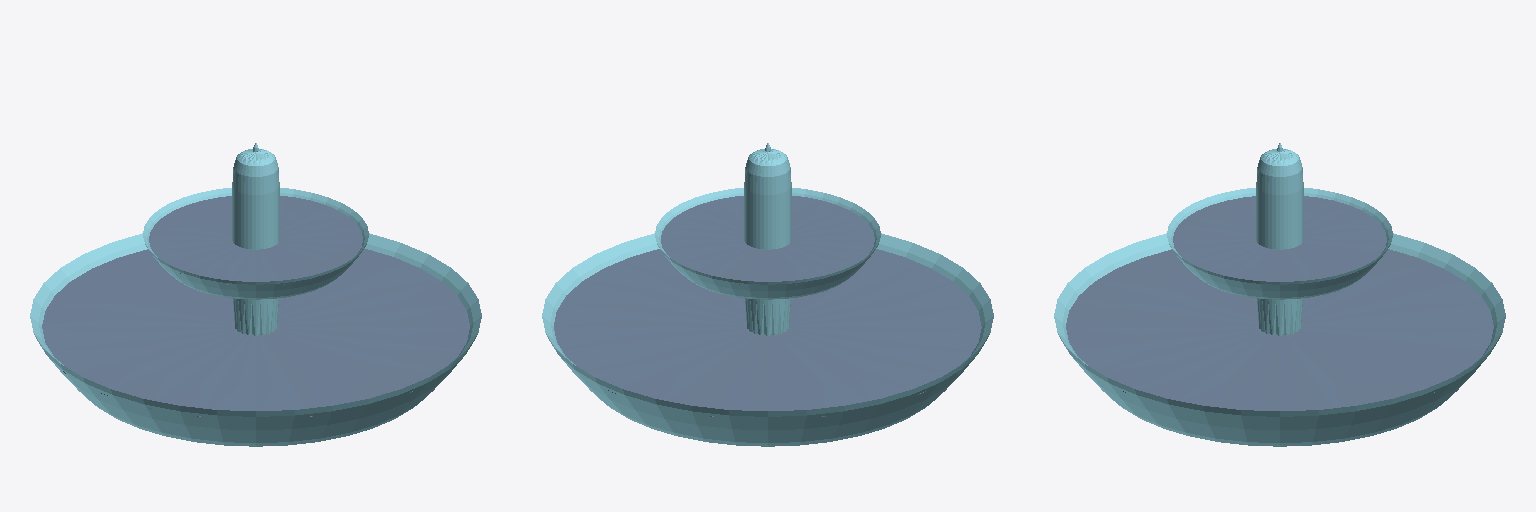
The model's file is fuente.obj.
The picture shows the model from 3 angles: view 1: azimuth 30°, elevation 25°; view 2: azimuth 150°, elevation 25°; view 3: azimuth 270°, elevation 25°; orthographic projection.
Visible parts, largest first — view 1: Water_Large, Fountain_Base, Water_Small; view 2: Water_Large, Fountain_Base, Water_Small; view 3: Water_Large, Fountain_Base, Water_Small.
Part boxes in pixels (x1,y1,x2,y2): Water_Large: (42, 248, 469, 416); Fountain_Base: (30, 143, 481, 446); Water_Small: (149, 196, 362, 284); Water_Large: (554, 249, 981, 416); Fountain_Base: (542, 143, 993, 446); Water_Small: (661, 196, 874, 284); Water_Large: (1066, 249, 1493, 410); Fountain_Base: (1054, 143, 1505, 446); Water_Small: (1173, 196, 1386, 281).
Bounding box in the file's own units: 188 × 105 × 188.